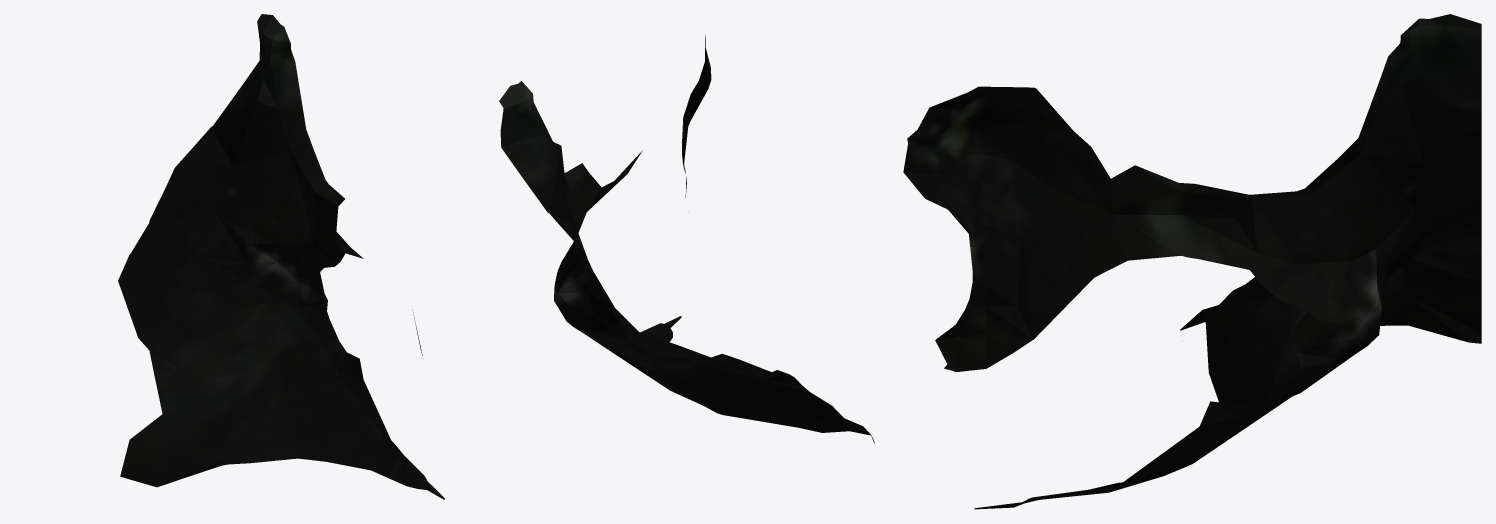
3 views of the same model, side by side, from view 1: azimuth 30°, elevation 25°; view 2: azimuth 150°, elevation 25°; view 3: azimuth 270°, elevation 25° (orthographic). The views are drawn at different scales.
Size of the model in its own units: 0.62 by 0.7636 by 0.8068.
Materials: 2 (2 with a texture image).
